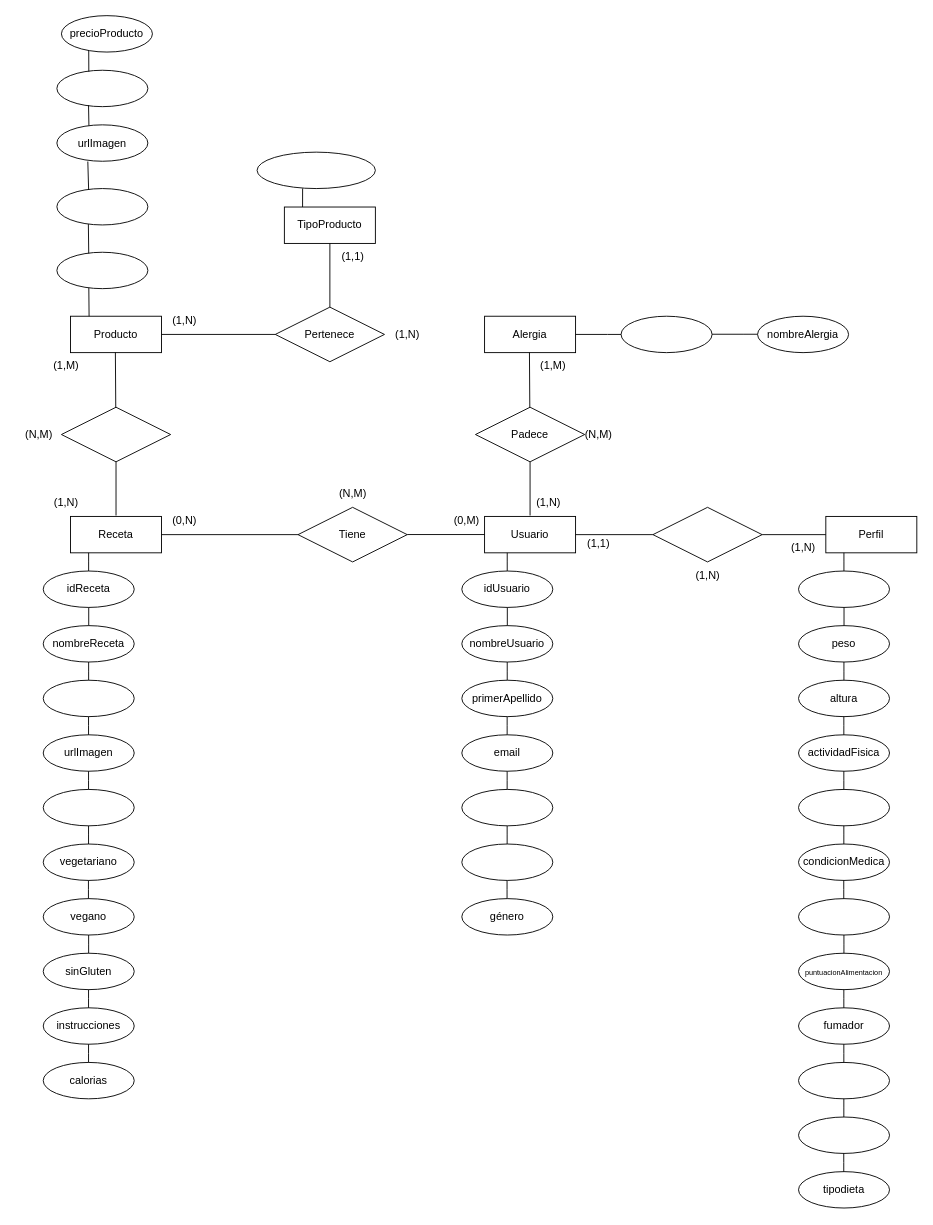
Image size: 933x1225. Some labels were removed from this diagram. Here are the shapes that lost their labels. From the top down, the centre of each, then its label:
At point 102,88: "contieneGluten".
At point 315,170: "nombreTipoProducto".
At point 102,206: "nombreProducto".
At point 102,270: "idProducto".
At point 666,334: "idAlergia".
At point 116,434: "Se compone".
At point 707,534: "Contiene".
At point 844,588: "idPerfil".
At point 88,698: "tiempoPreparacion".
At point 88,807: "descripcion".
At point 507,807: "password".
At point 844,807: "frecuenciaActFi".
At point 507,861: "fecha_nacimiento".
At point 844,916: "medicación".
At point 844,1080: "enfermedades".
At point 844,1134: "intolerancias".
